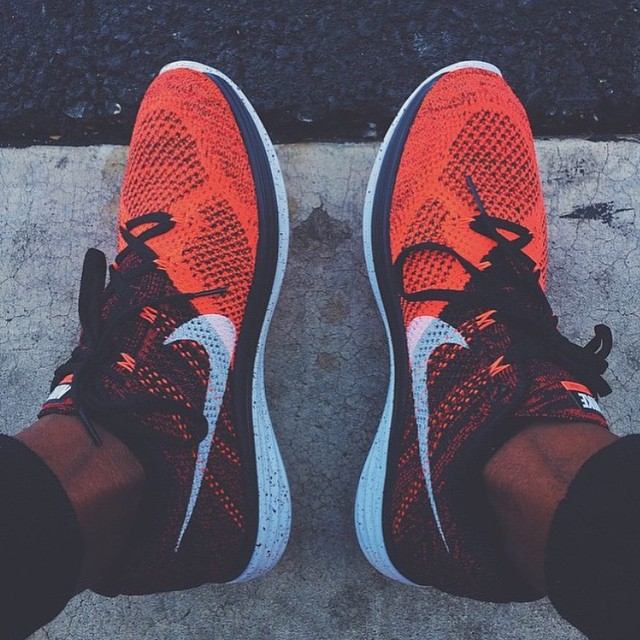sneaker: (320, 45, 625, 609), (10, 43, 313, 608)
